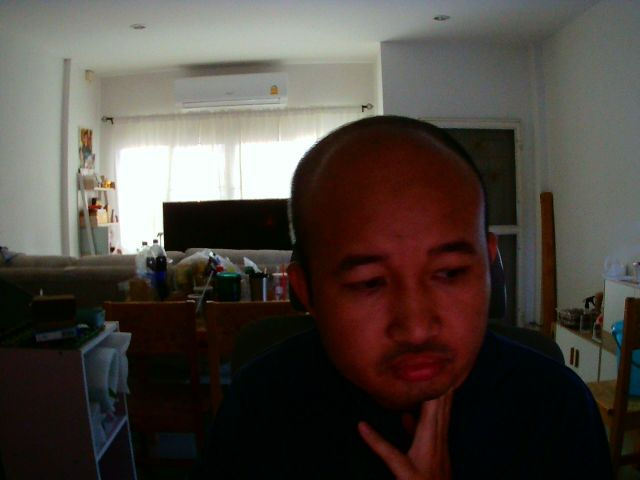face: (289, 113, 489, 403)
